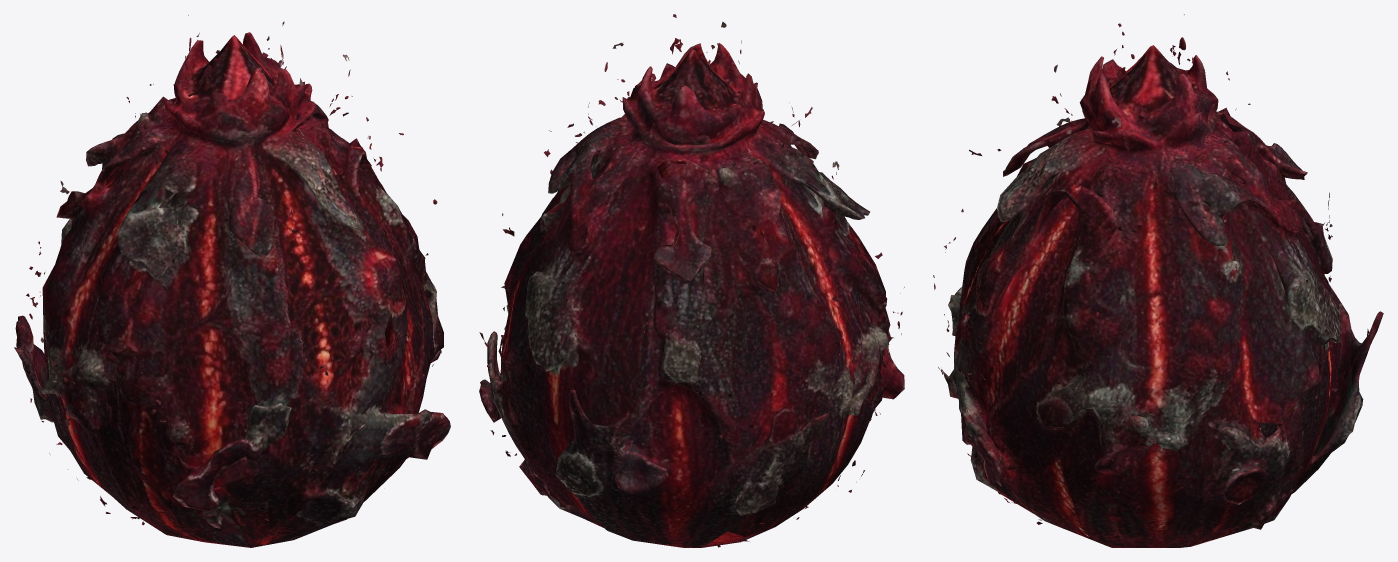
Rendered from darkseed.glb.
3 renders of one model, left to right at view 1: azimuth 30°, elevation 25°; view 2: azimuth 150°, elevation 25°; view 3: azimuth 270°, elevation 25°, orthographic. The views are drawn at different scales.
Visible parts, largest first — view 1: tripo_node_ae79ee26-7dee-4e8e-8dca-2626506c1f40; view 2: tripo_node_ae79ee26-7dee-4e8e-8dca-2626506c1f40; view 3: tripo_node_ae79ee26-7dee-4e8e-8dca-2626506c1f40.
Boxes of the visible parts, x1,y1,x2,y2 form: tripo_node_ae79ee26-7dee-4e8e-8dca-2626506c1f40: [14, 15, 450, 547]; tripo_node_ae79ee26-7dee-4e8e-8dca-2626506c1f40: [479, 14, 904, 547]; tripo_node_ae79ee26-7dee-4e8e-8dca-2626506c1f40: [933, 14, 1383, 547].
Bounding box in the file's own units: 0.7598 × 0.9647 × 0.7774.
Materials: 1 (1 with a texture image).
